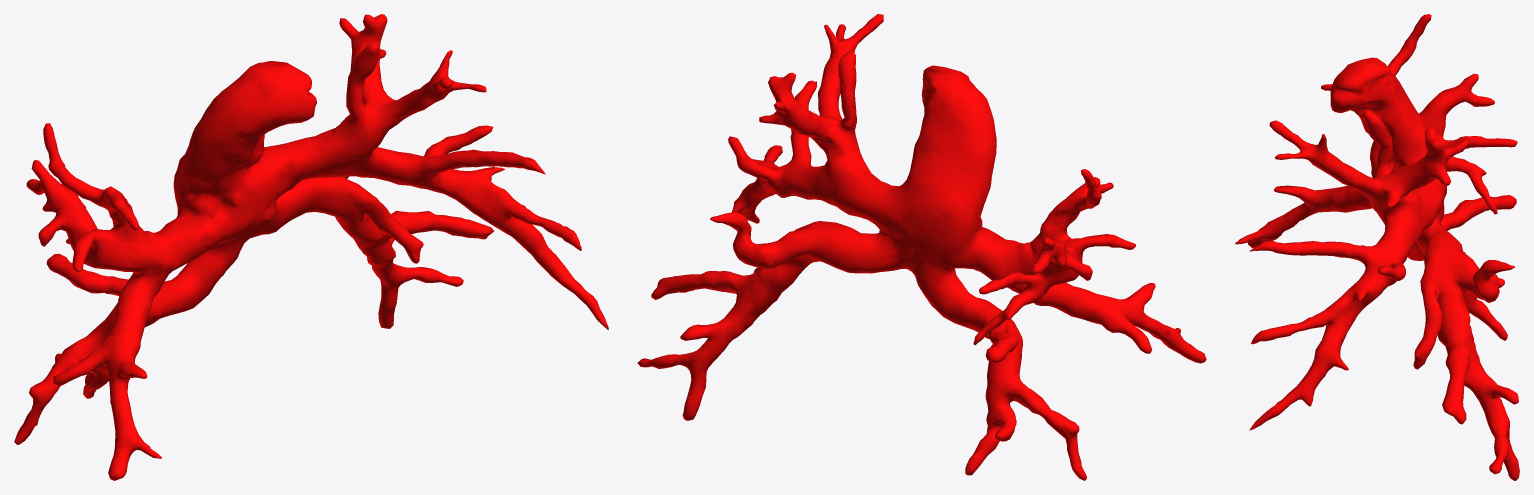
The picture shows the model from 3 angles, left to right: view 1: azimuth 30°, elevation 25°; view 2: azimuth 150°, elevation 25°; view 3: azimuth 270°, elevation 25°; orthographic projection. The views are drawn at different scales.
Visible parts, largest first — view 1: Polygonal_Model_3_Triangles_0; view 2: Polygonal_Model_3_Triangles_0; view 3: Polygonal_Model_3_Triangles_0.
Boxes of the visible parts, x1=… form: Polygonal_Model_3_Triangles_0: x1=14, y1=14, x2=608, y2=480; Polygonal_Model_3_Triangles_0: x1=637, y1=14, x2=1206, y2=480; Polygonal_Model_3_Triangles_0: x1=1235, y1=14, x2=1519, y2=480.
Bounding box in the file's own units: 2.63 × 1.88 × 1.47.
